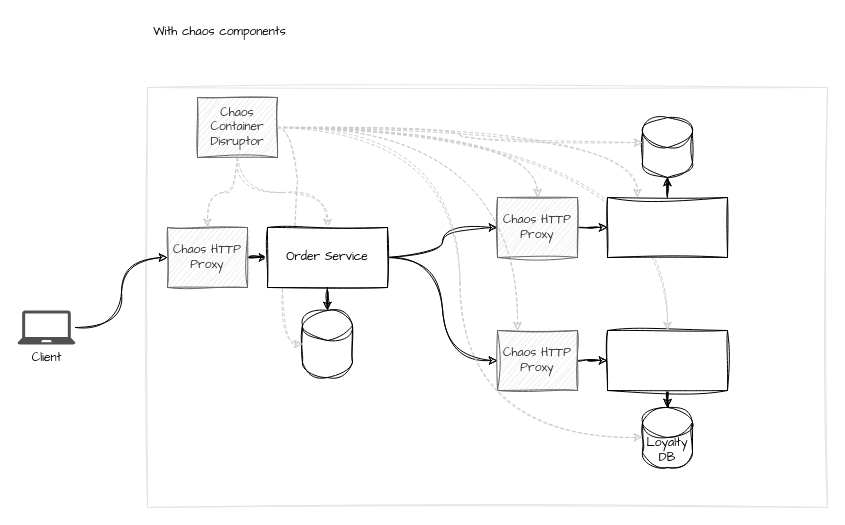
This 845x525 diagram has some shape labels left out. The centre of each missing label's shape, as x and y in pixels:
Loyalty Service: the point at 667,360
Menu DB: the point at 667,147
Menu Service: the point at 667,227
Order DB: the point at 327,344
